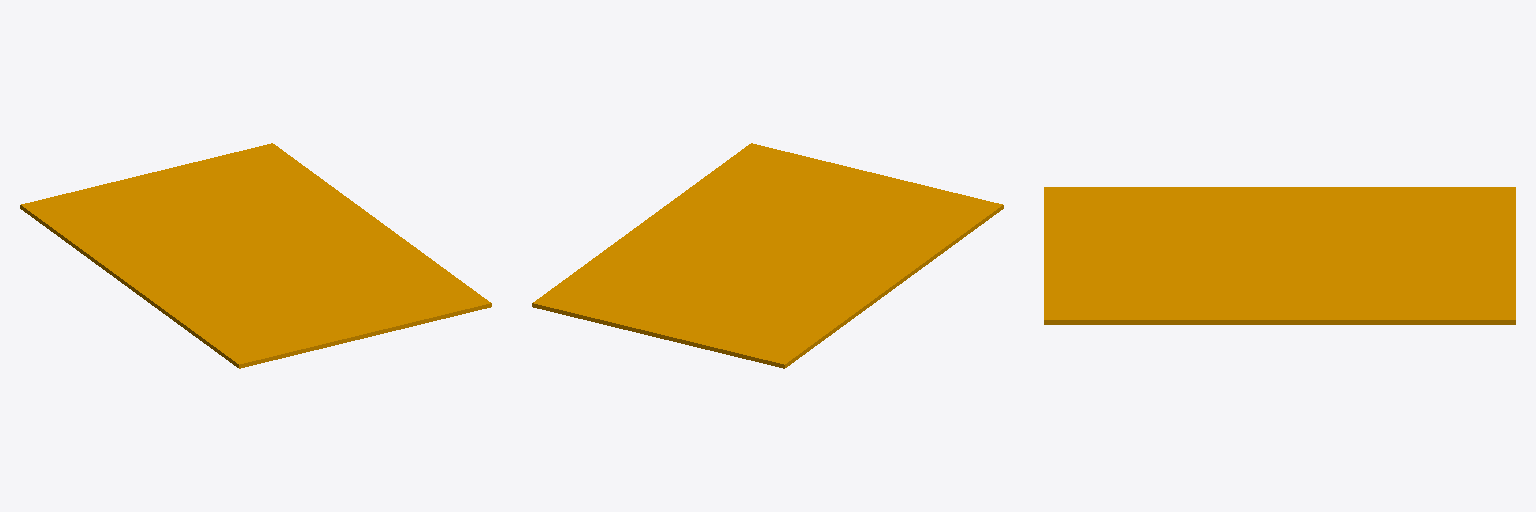
URDF robot description (s32k144_evb):
<?xml version="1.0" encoding="utf-8"?>
<!-- S32K144EVB-Q100（SCH-29248 Rev B）板体骨架模型。
     ⚠ 本板外形尺寸 UNVERIFIED：NXP 官方机械图/原理图需登录下载，公开 QSG 只给
     上限 "supports up to 6in x 4in"。下面 box 的 x/y 是该上限包络的占位值
     （0.1016 x 0.1524 m = 4in x 6in，来源 QSG Rev 4.1），不是本板实测外形；
     board.yaml 的 outline 全为 null。拿到官方机械图后替换。
     坐标约定：原点 = 包络几何中心；X/Y 在板面内，z=0 为板厚中面。 -->
<robot name="s32k144_evb">
  <link name="base_link">
    <visual>
      <geometry>
        <!-- UNVERIFIED 占位：x/y = QSG 上限包络 4in x 6in（非实测外形），
             z = 标称 PCB 厚度绘图占位值（非有来源尺寸）。board.yaml outline 全 null。 -->
        <box size="0.1016 0.1524 0.0016"/>
      </geometry>
      <origin xyz="0 0 0" rpy="0 0 0"/>
    </visual>
  </link>

  <!-- 三个挂载点为跨仓约定命名（PPM 导阈值按名字找），不改名不加前缀。
       本板外形 UNVERIFIED → 挂载点坐标无法由外形推导，暂全部置于原点（骨架），
       拿到官方机械图后按约定（长边端中心/板中心）回填。
       rpy 中项为俯仰角槽位，当前 0 = 水平朝前占位。 -->
  <link name="mount_camera"/>
  <link name="mount_sensor"/>
  <link name="mount_bracket"/>

  <joint name="base_to_mount_camera" type="fixed">
    <parent link="base_link"/>
    <child link="mount_camera"/>
    <origin xyz="0 0 0" rpy="0 0 0"/>
  </joint>
  <joint name="base_to_mount_sensor" type="fixed">
    <parent link="base_link"/>
    <child link="mount_sensor"/>
    <origin xyz="0 0 0" rpy="0 0 0"/>
  </joint>
  <joint name="base_to_mount_bracket" type="fixed">
    <parent link="base_link"/>
    <child link="mount_bracket"/>
    <origin xyz="0 0 0" rpy="0 0 0"/>
  </joint>

  <!-- 无 hole_N link：本板安装孔存在性与孔位均 UNVERIFIED。
       "Arduino UNO footprint-compatible" 仅指排针兼容（NXP 产品页），不能推出孔位；
       UNO R3 官方孔 pattern（4x Ø3.20mm）见 board.yaml sources，但不适用于本板除非实测。 -->
</robot>

--- Render facts (derived) ---
3 views of the same robot in one strip: view 1: azimuth 30°, elevation 25°; view 2: azimuth 150°, elevation 25°; view 3: azimuth 270°, elevation 25° (orthographic).
Robot: s32k144_evb — 4 links, 3 joints (3 fixed); root link base_link; default pose: every joint at zero.
Links seen in each view (by area): view 1: base_link; view 2: base_link; view 3: base_link.
Link boxes in pixels (x1,y1,x2,y2): base_link: [20, 143, 491, 368]; base_link: [532, 143, 1003, 368]; base_link: [1044, 187, 1515, 324].
Size in the robot's own frame: 0.1016 by 0.1524 by 0.0016 metres.
Geometry: primitives only (box / cylinder / sphere), no mesh files.
